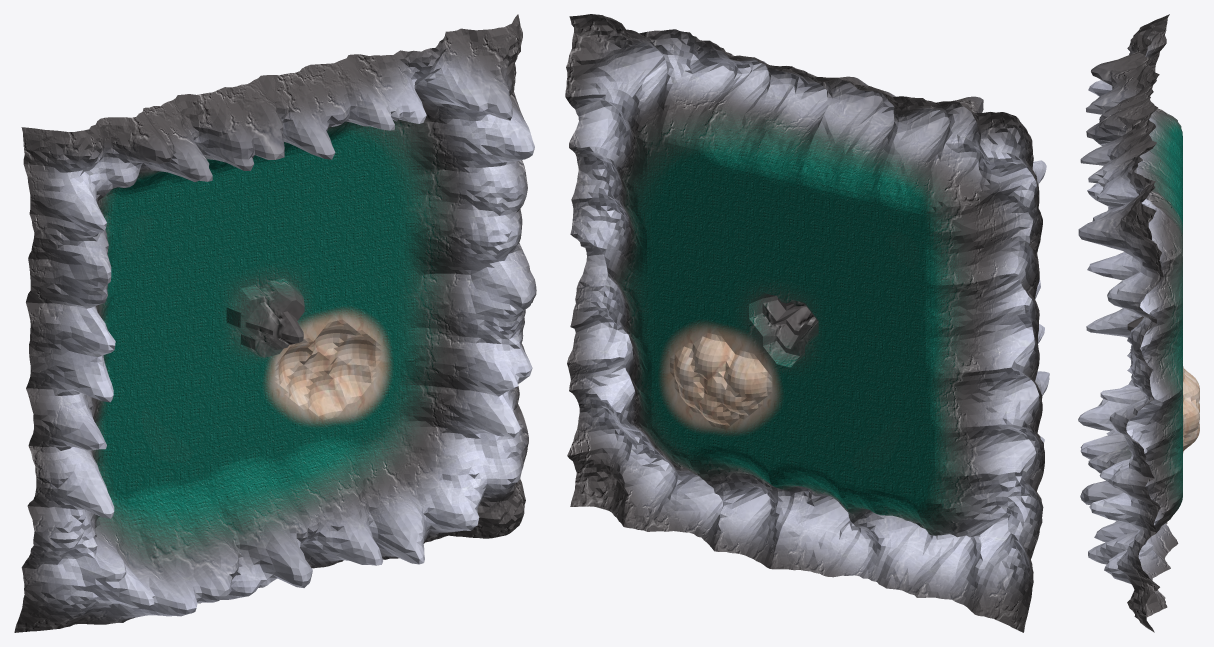
Rendered from world.obj.
3 renders of one model, left to right at view 1: azimuth 30°, elevation 25°; view 2: azimuth 150°, elevation 25°; view 3: azimuth 270°, elevation 25°, orthographic. The views are drawn at different scales.
Parts seen in each view (by area): view 1: Plane_Mesh; view 2: Plane_Mesh; view 3: Plane_Mesh.
Boxes of the visible parts, x1,y1,x2,y2 form: Plane_Mesh: (14,14,536,632); Plane_Mesh: (565,14,1049,632); Plane_Mesh: (1078,14,1199,632).
Size of the model in its own units: 423 by 423 by 111.
